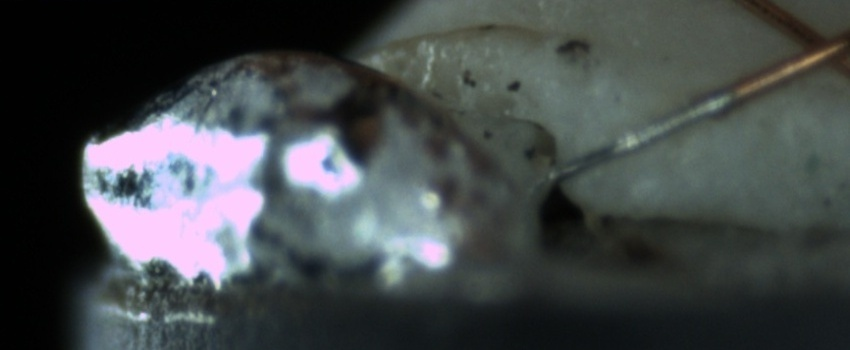CL: (773, 9, 850, 83)
TS: (548, 87, 734, 185)
TTCW: (542, 62, 785, 187)
